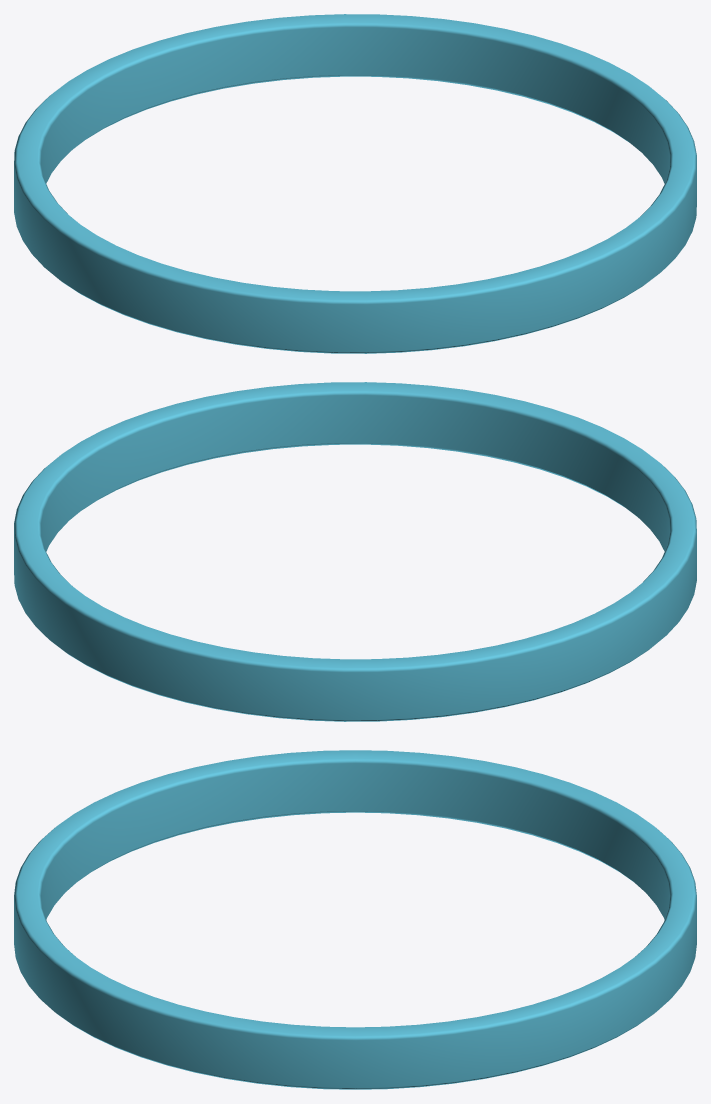
The picture shows the model from 3 angles, top to bottom: view 1: azimuth 30°, elevation 25°; view 2: azimuth 150°, elevation 25°; view 3: azimuth 270°, elevation 25°; orthographic projection.
Parts seen in each view (by area): view 1: seal_body; view 2: seal_body; view 3: seal_body.
Part boxes in pixels (x1,y1,x2,y2): seal_body: (14,14,696,353); seal_body: (14,382,696,721); seal_body: (14,750,696,1089).
Bounding box in the file's own units: 0.063 × 0.0055 × 0.063.
